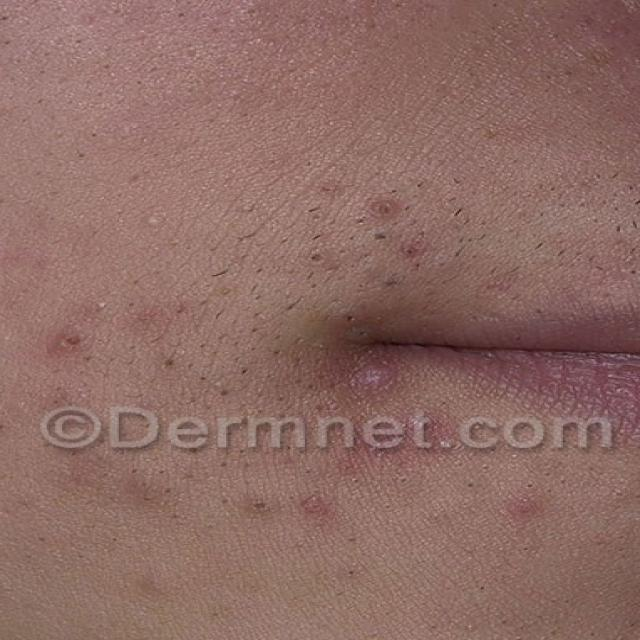Acne: (0, 238, 342, 640), (276, 137, 640, 311), (214, 563, 640, 640)
